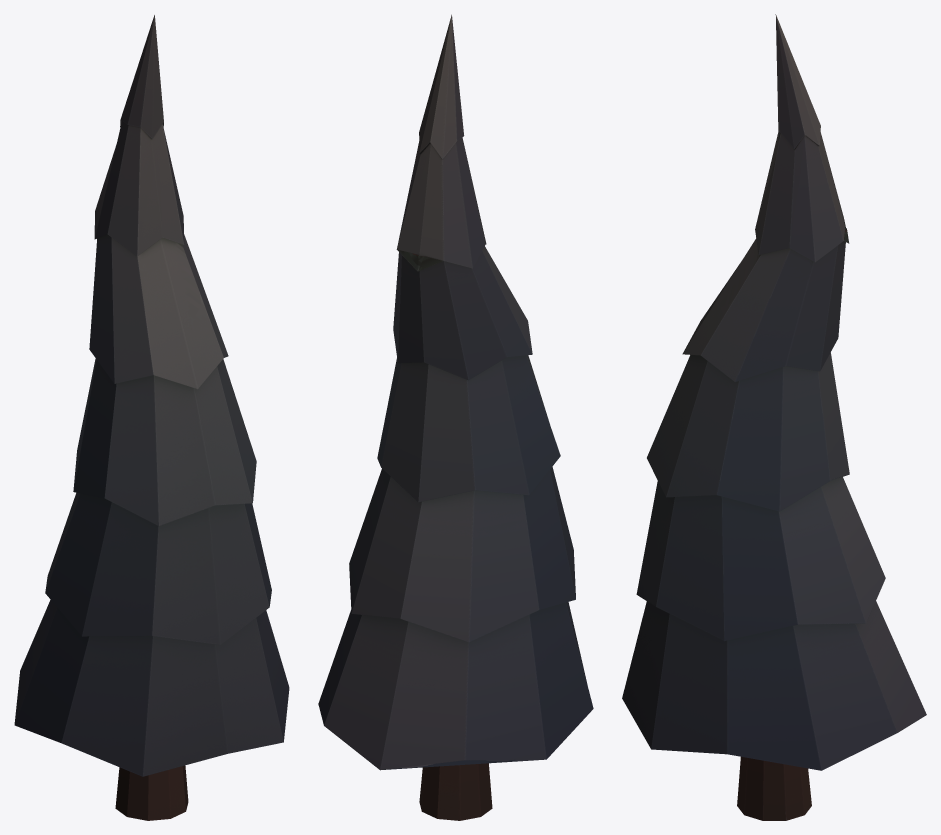
The model's file is Tree2.fbx.
3 views of the same model, side by side, from view 1: azimuth 30°, elevation 25°; view 2: azimuth 150°, elevation 25°; view 3: azimuth 270°, elevation 25° (orthographic).
Parts seen in each view (by area): view 1: Tree2; view 2: Tree2; view 3: Tree2.
Part boxes in pixels (box(x1,y1,x2,y2)): Tree2: box(14, 15, 289, 820); Tree2: box(318, 14, 593, 820); Tree2: box(622, 14, 926, 820).
Size of the model in its own units: 97.88 by 324 by 113.
